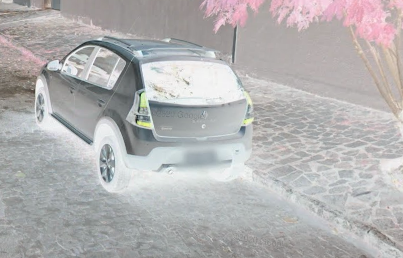car: (29, 20, 260, 196)
